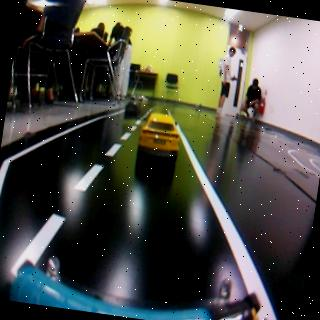car: (132, 108, 188, 160), (123, 100, 139, 114)
